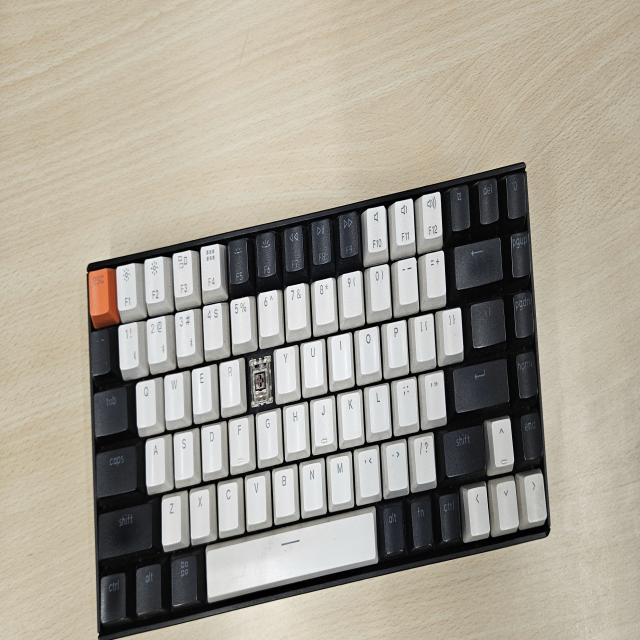C: (250, 363, 270, 403)
